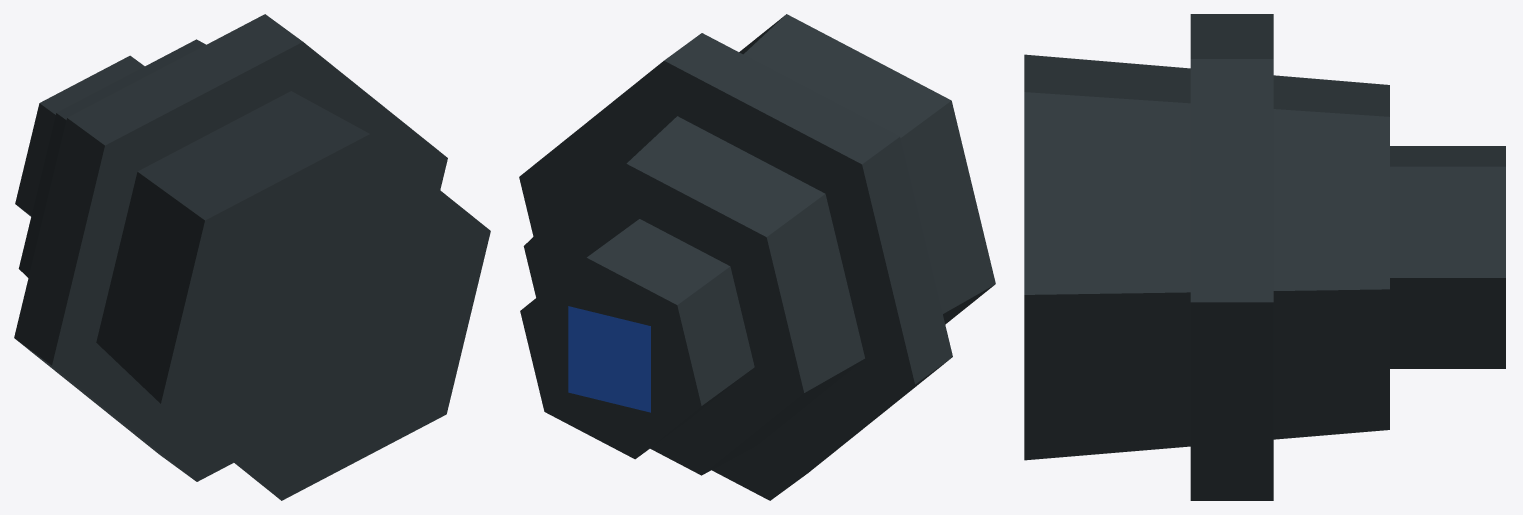
3 renders of one model, left to right at view 1: azimuth 30°, elevation 25°; view 2: azimuth 150°, elevation 25°; view 3: azimuth 270°, elevation 25°, orthographic. The views are drawn at different scales.
Parts seen in each view (by area): view 1: mount; view 2: mount; view 3: mount.
Boxes of the visible parts, x1,y1,x2,y2 form: mount: (14,14,490,500); mount: (519,14,995,500); mount: (1024,14,1505,500).
Bounding box in the file's own units: 6.03 × 6.03 × 5.83.
